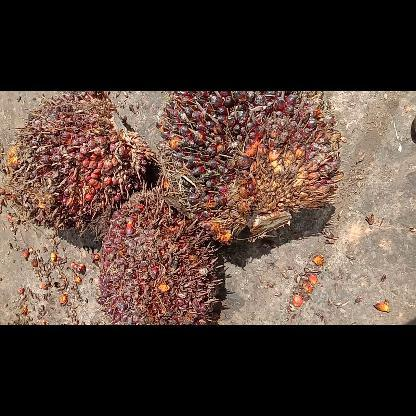Kurang masak: (13, 92, 150, 230)
TBS masak: (154, 91, 346, 247), (96, 188, 226, 324)
